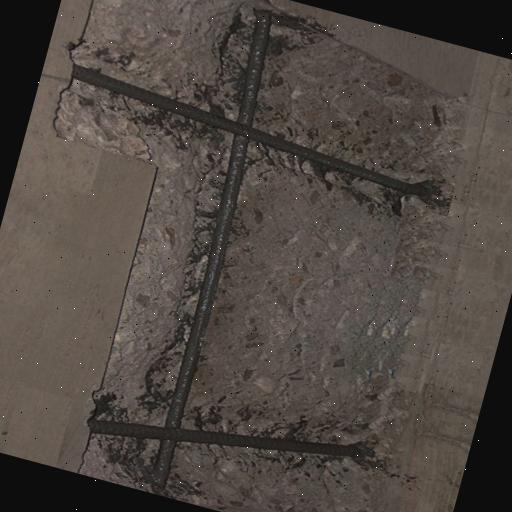spalling: (56, 0, 462, 511)
